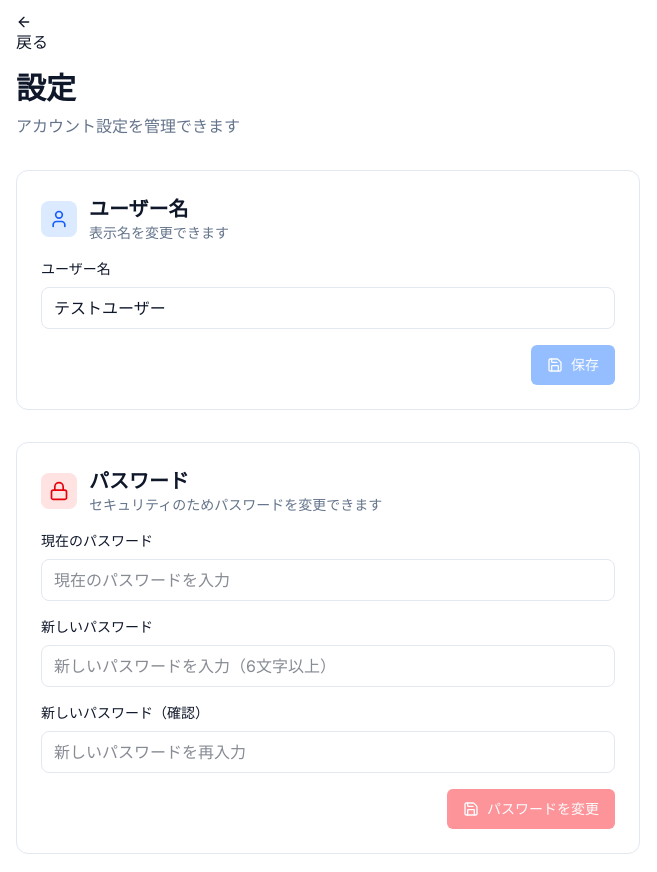
Test case: SettingsPage › should show error when username update fails
// Change username
Replace the text in the field labelled "ユーザー名" with "新しいユーザー名" at (328, 308), box top-left (41, 287), bottom-right (615, 329)
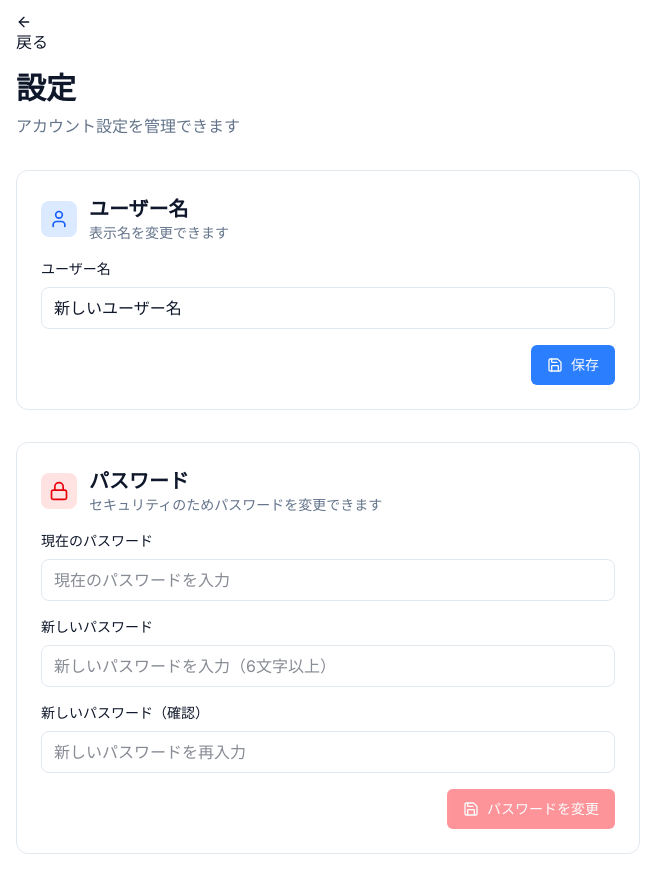
Click the button "保存" at (573, 365), box top-left (531, 345), bottom-right (615, 385)
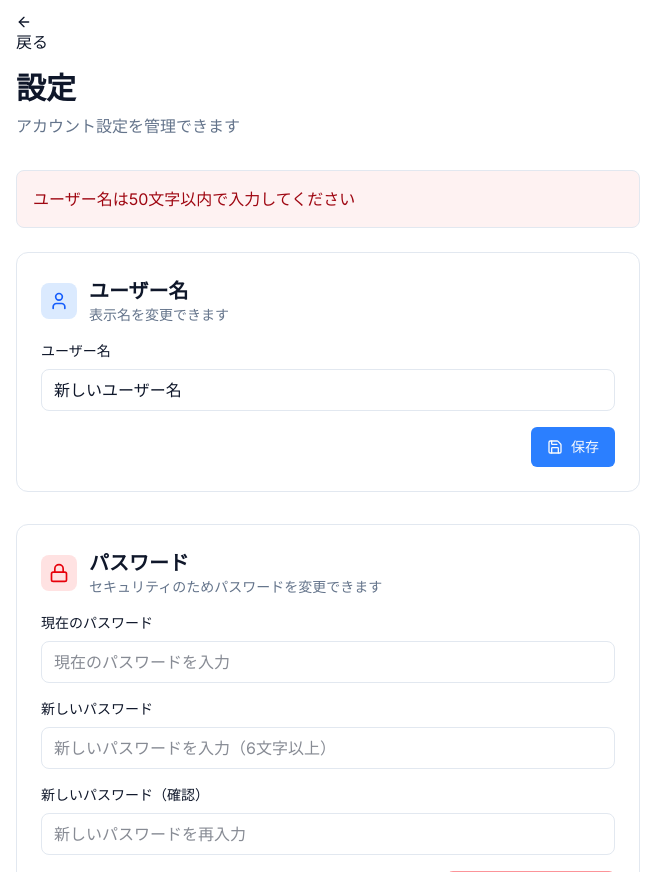
Result: the text "ユーザー名は50文字以内で入力してください" is shown at top-left (16, 170), bottom-right (640, 228)
